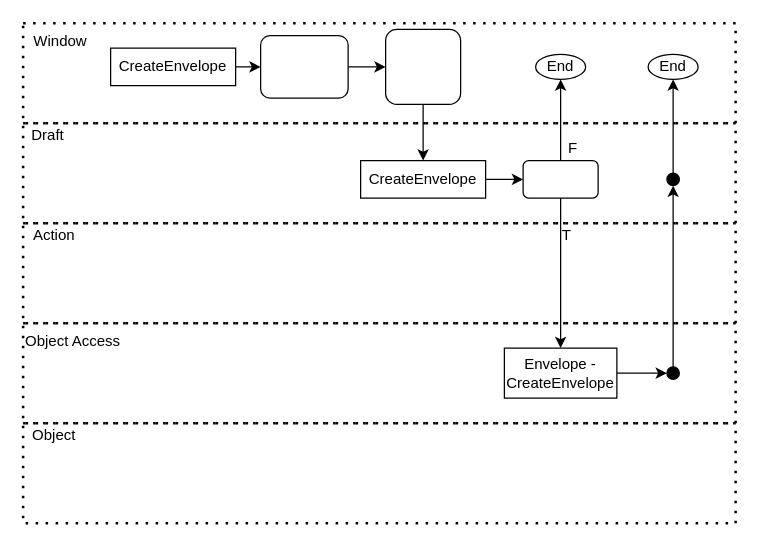
Image size: 759x546. Some labels were removed from this diagram. The shapes that lost their labels are listed below. From the top down, each one's centre as x and y in pixels, then its label:
the point at 303,66: Create Object Module
the point at 422,66: Create Response Ticket
the point at 560,178: Validate
